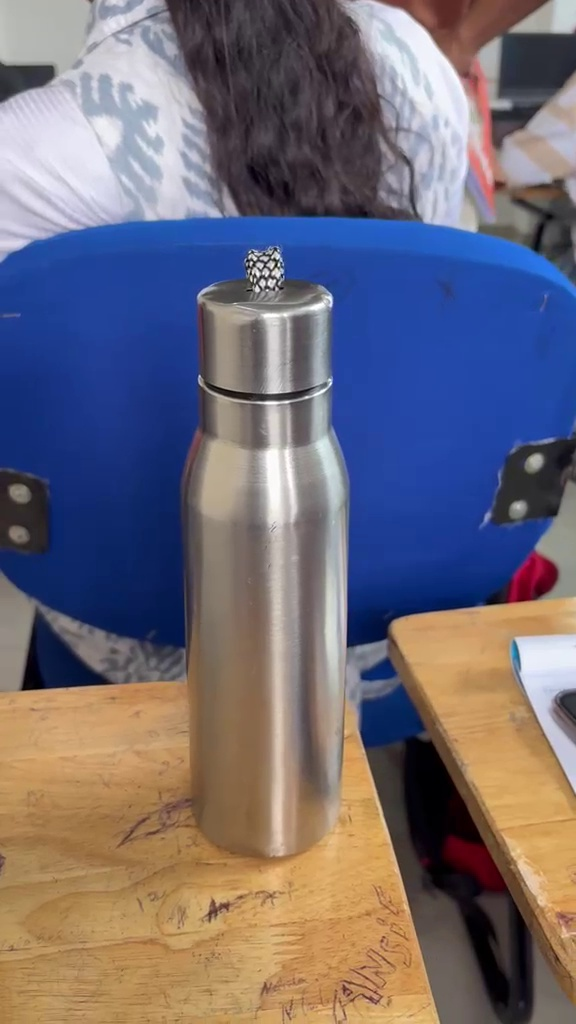Bottle: (182, 236, 362, 869)
